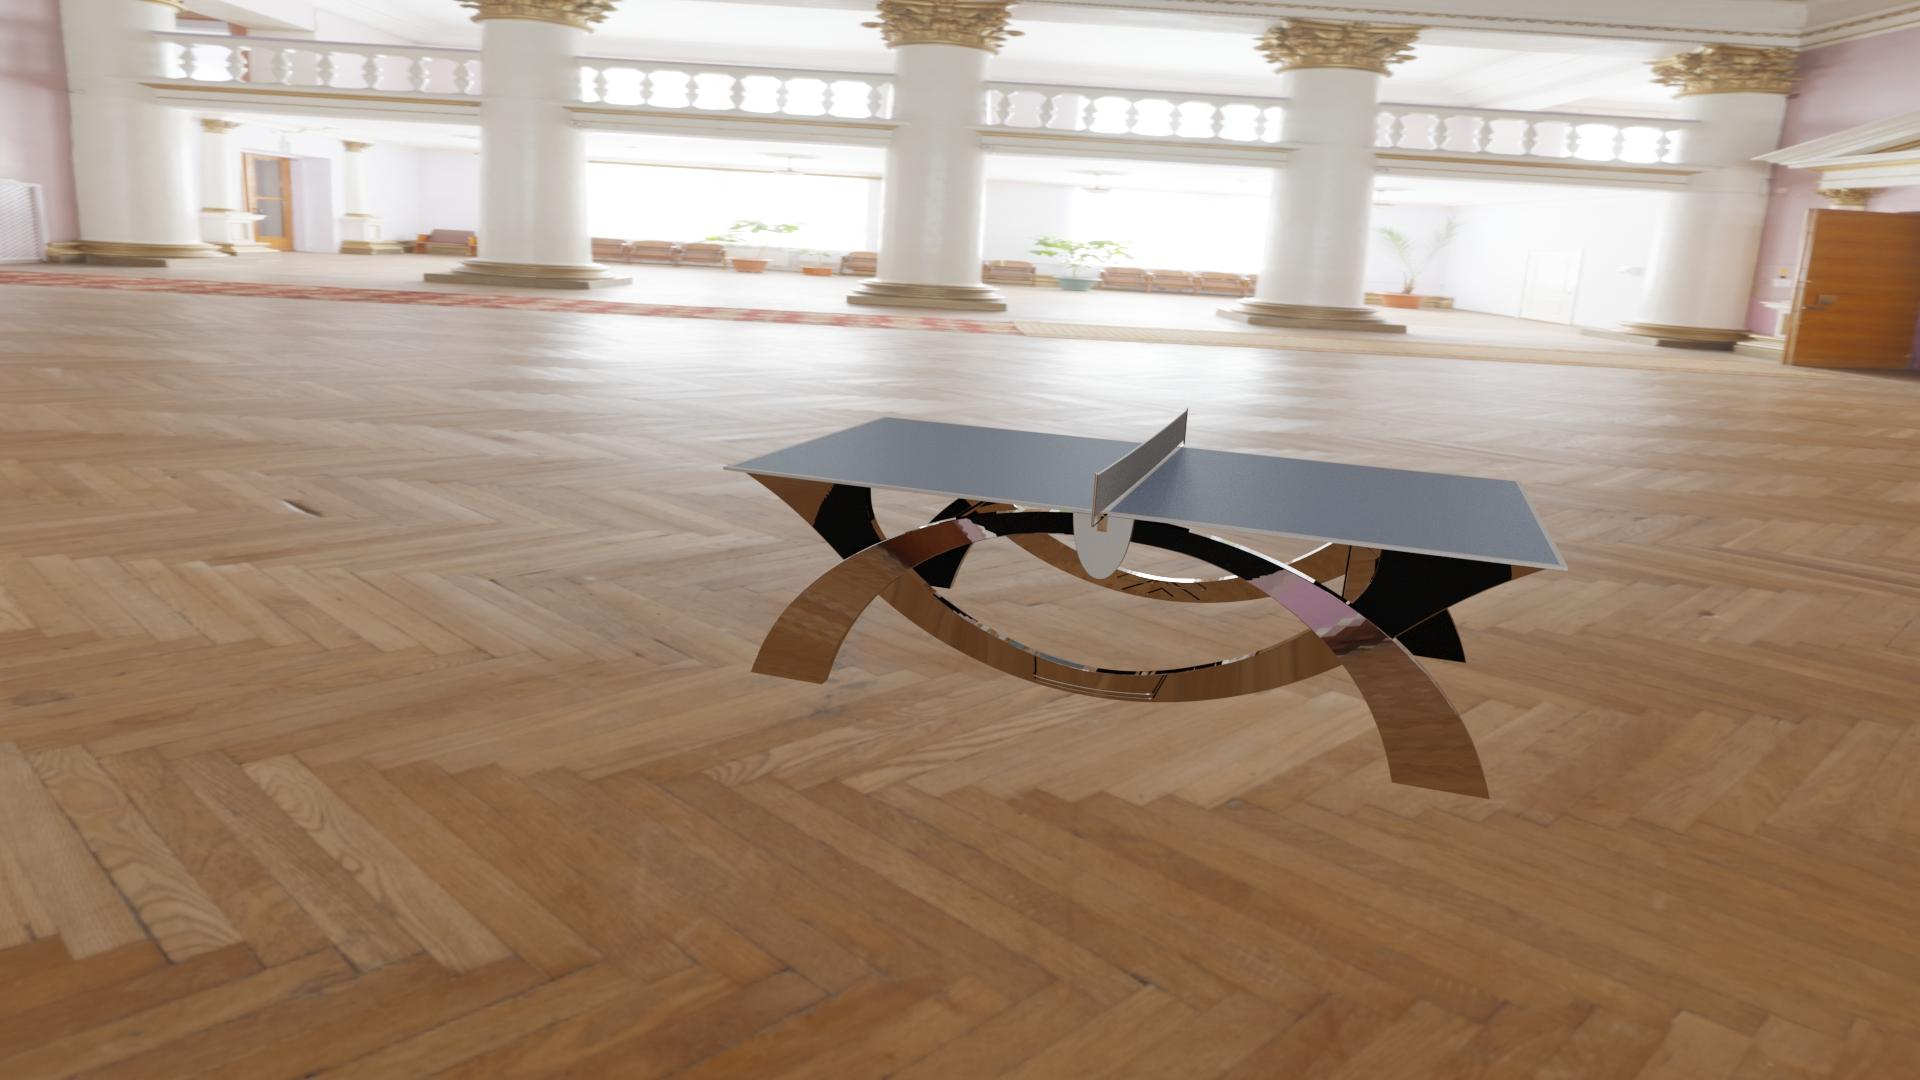table: (731, 418, 1560, 566)
